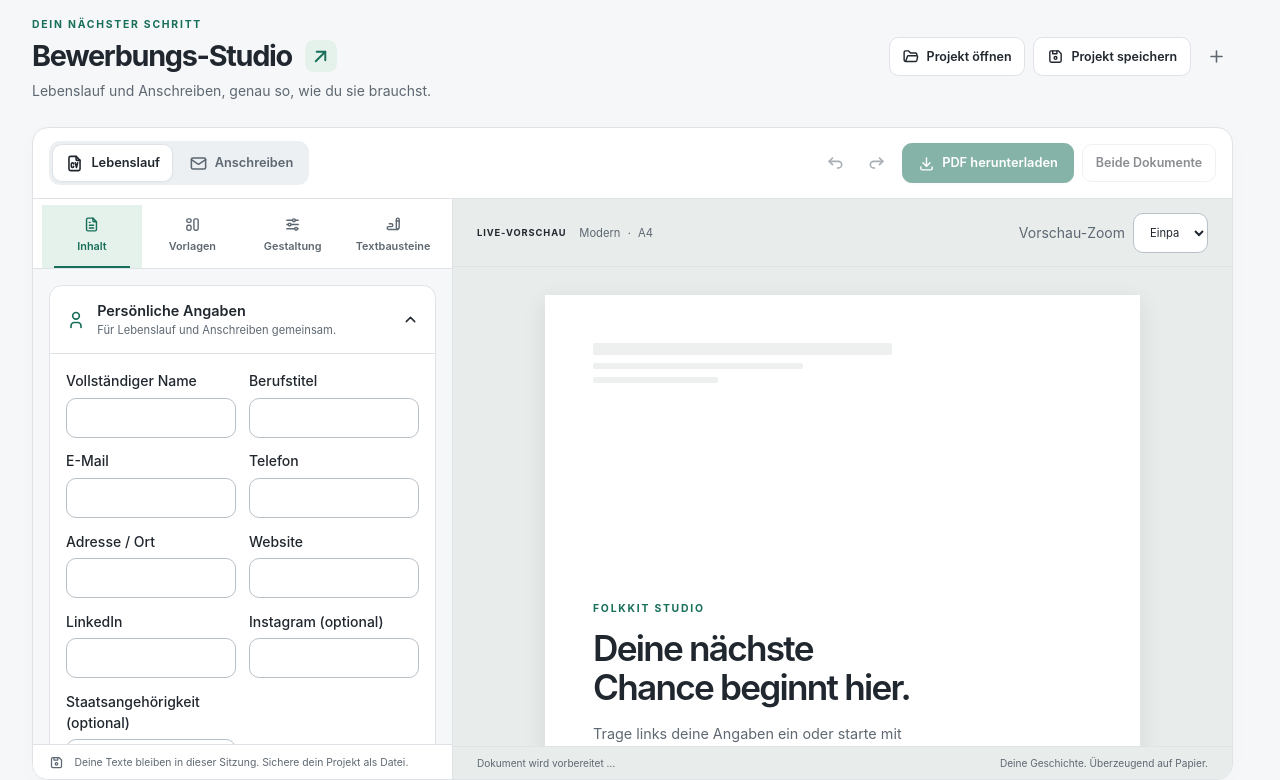
numeric fields accept partial drafts and commit valid multi-digit values
The image size is (1280, 780).
Click the tab "Gestaltung" at (293, 237), box [242, 205, 343, 268]
(page scrolled)
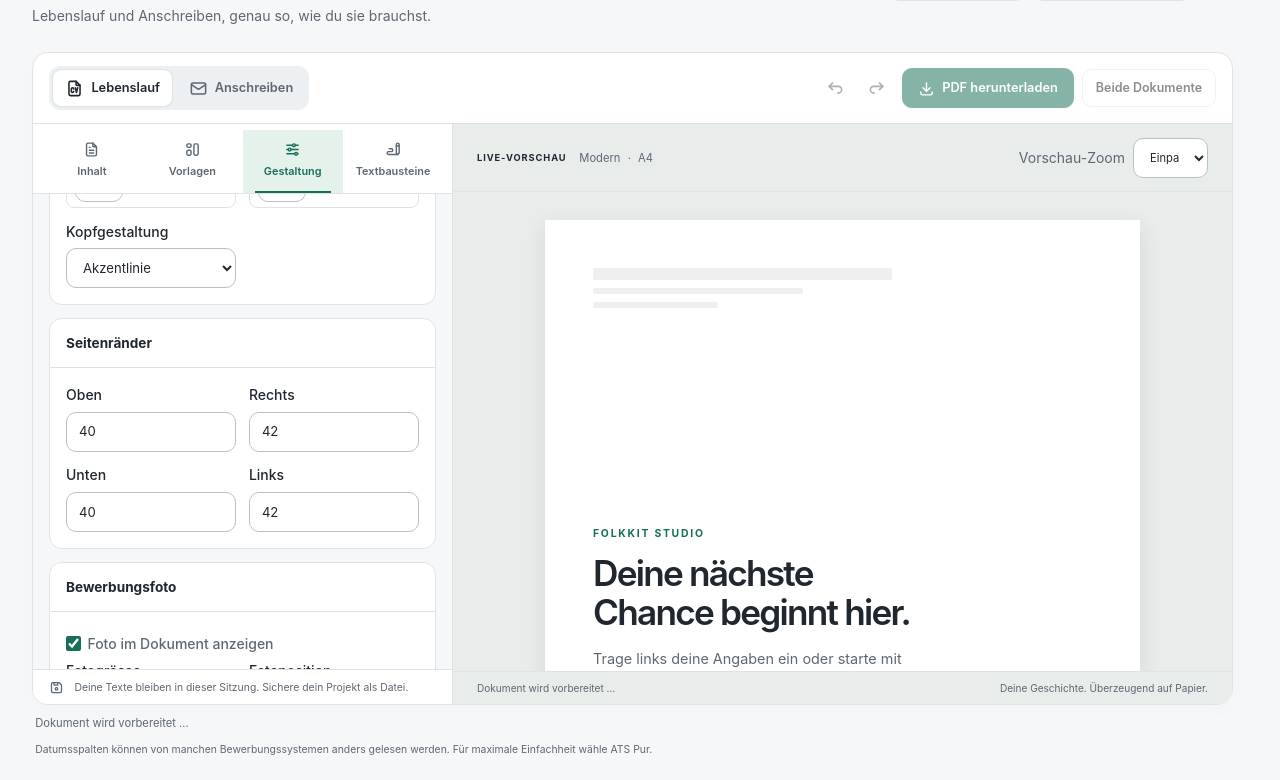
Clear the number field labelled "Oben" at (151, 432), box [66, 412, 236, 452]
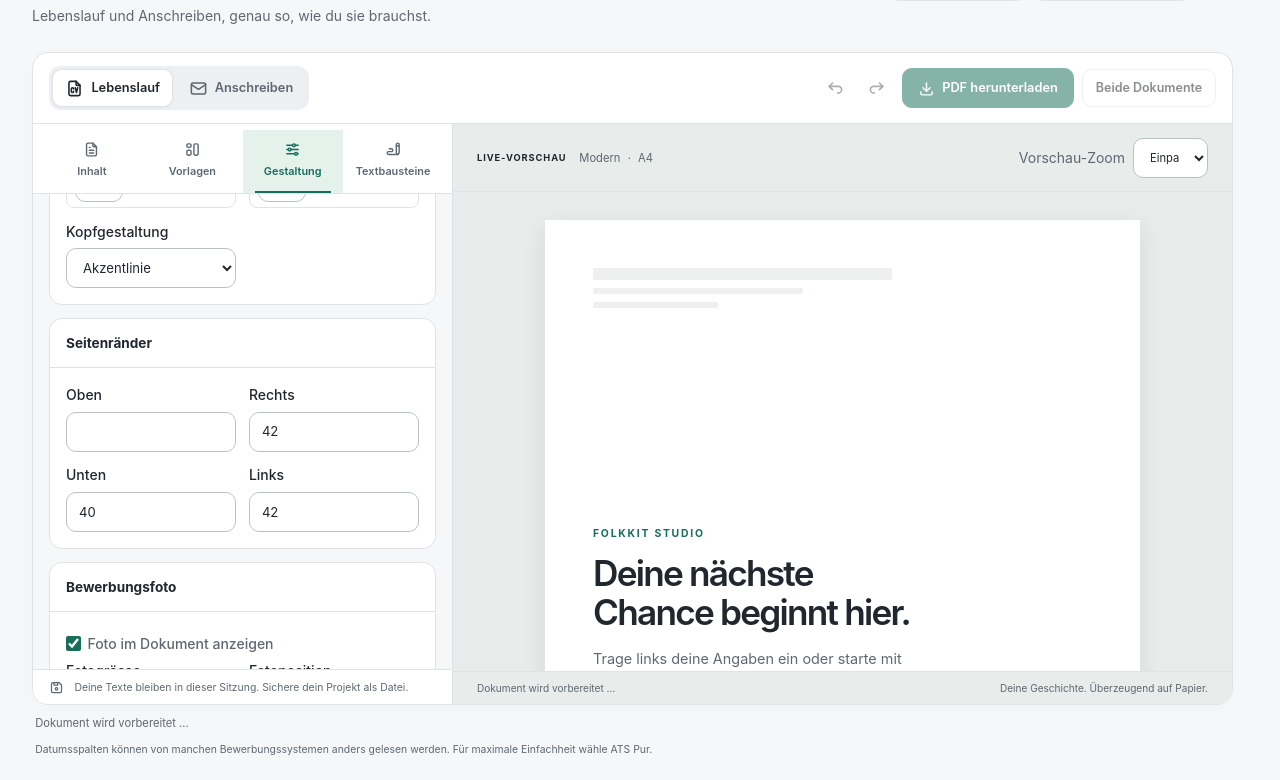
Type "1" into the number field labelled "Oben" at (151, 432), box [66, 412, 236, 452]
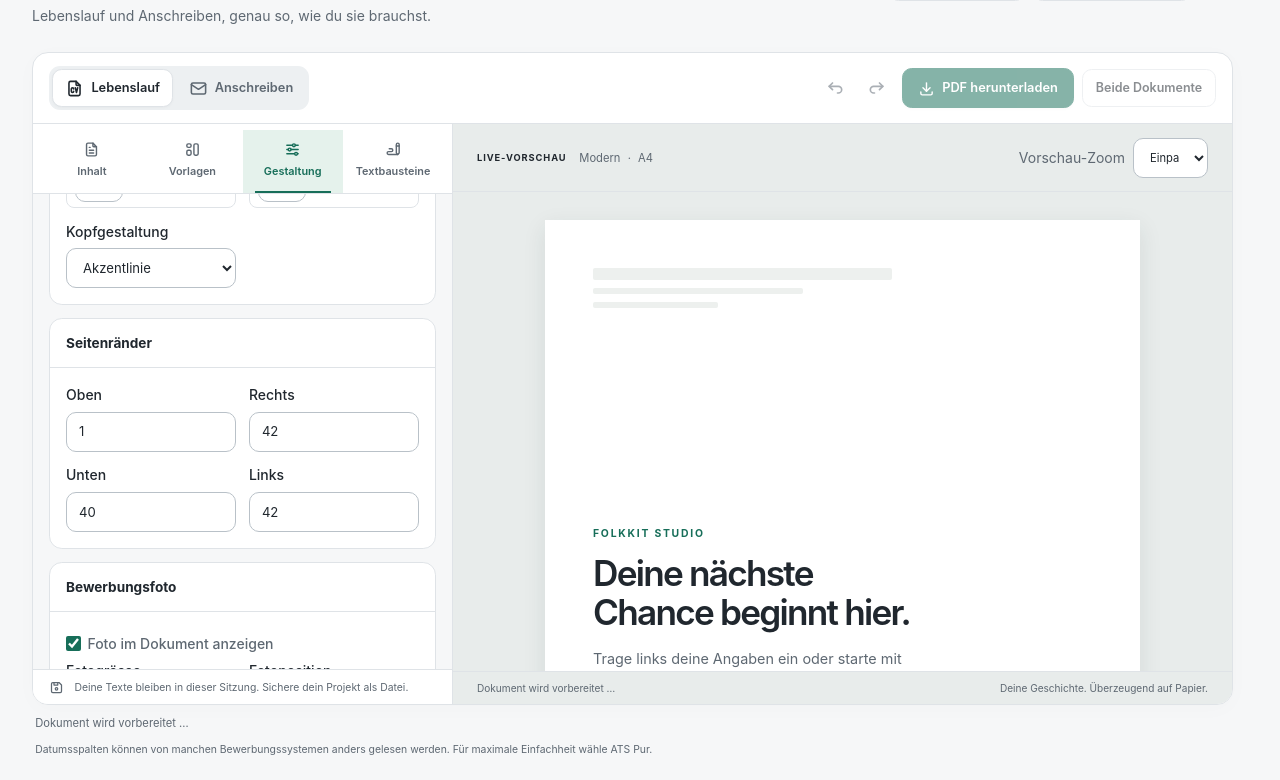
Replace the text in the number field labelled "Oben" with "18" at (151, 432), box [66, 412, 236, 452]
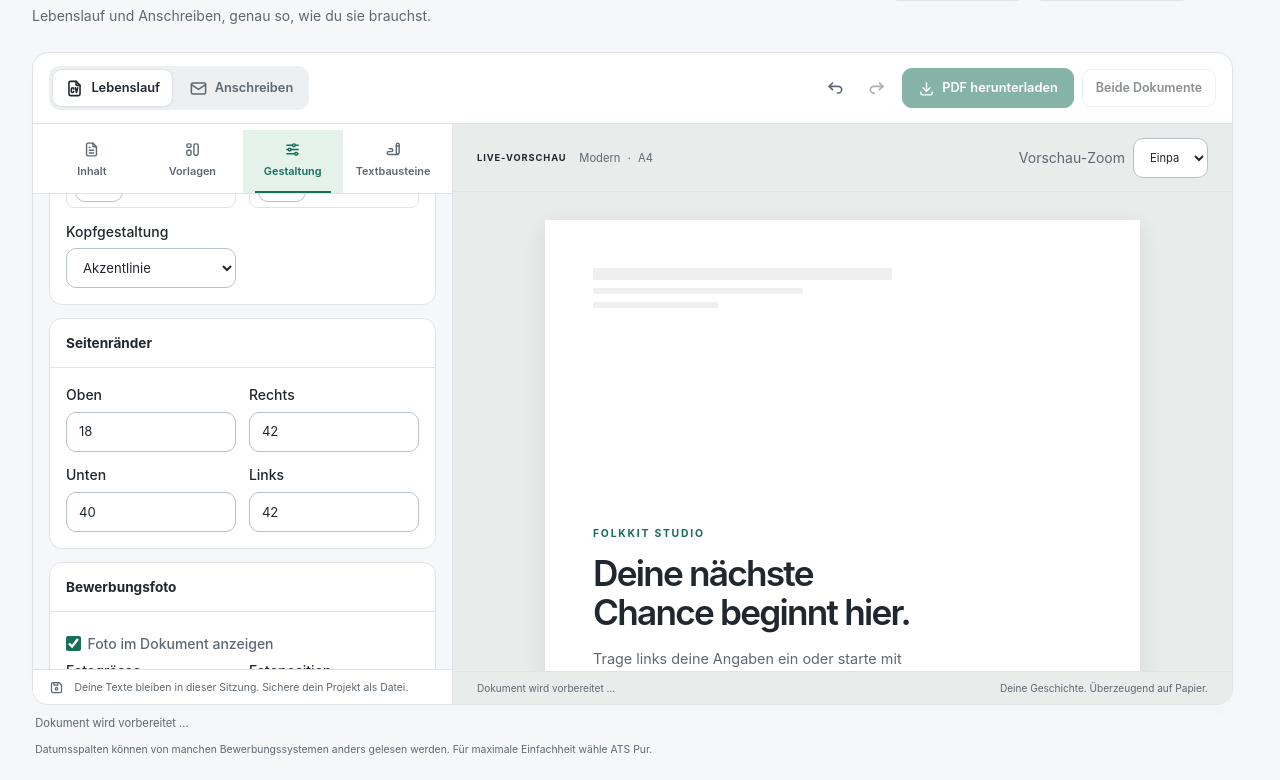
Result: the number field labelled "Oben" holds "18"
Replace the text in the number field labelled "Oben" with "2" at (151, 432), box [66, 412, 236, 452]
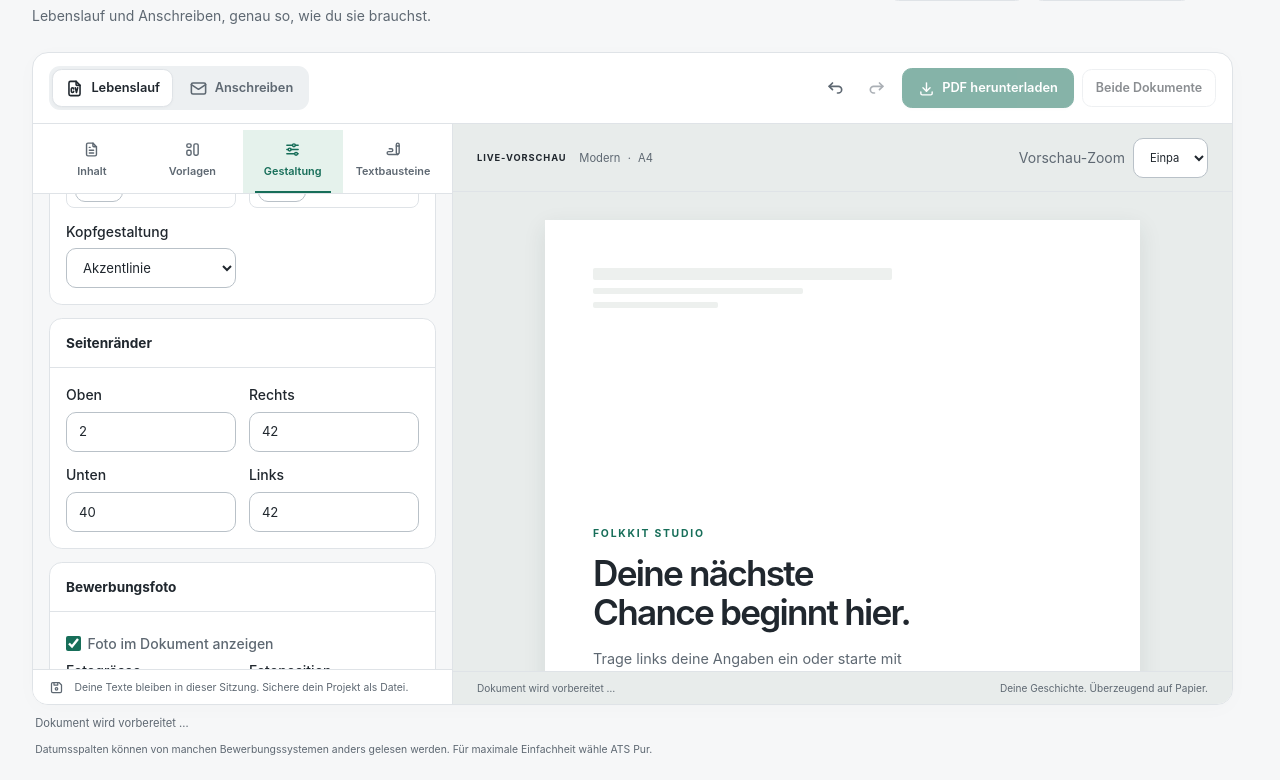
Leave the number field labelled "Oben", box [66, 412, 236, 452]
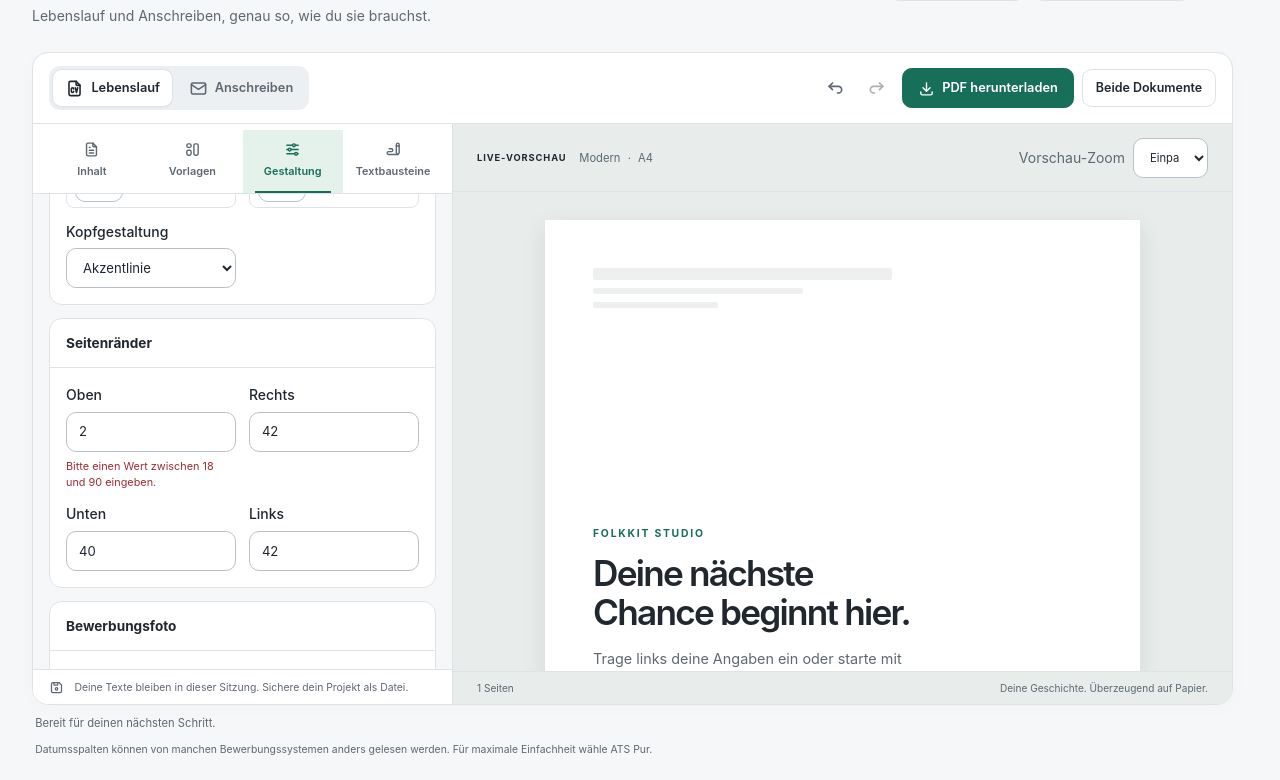
Result: the message "Bitte einen Wert zwischen 18 und 90 eingeben." is shown at [66, 458, 236, 491]
